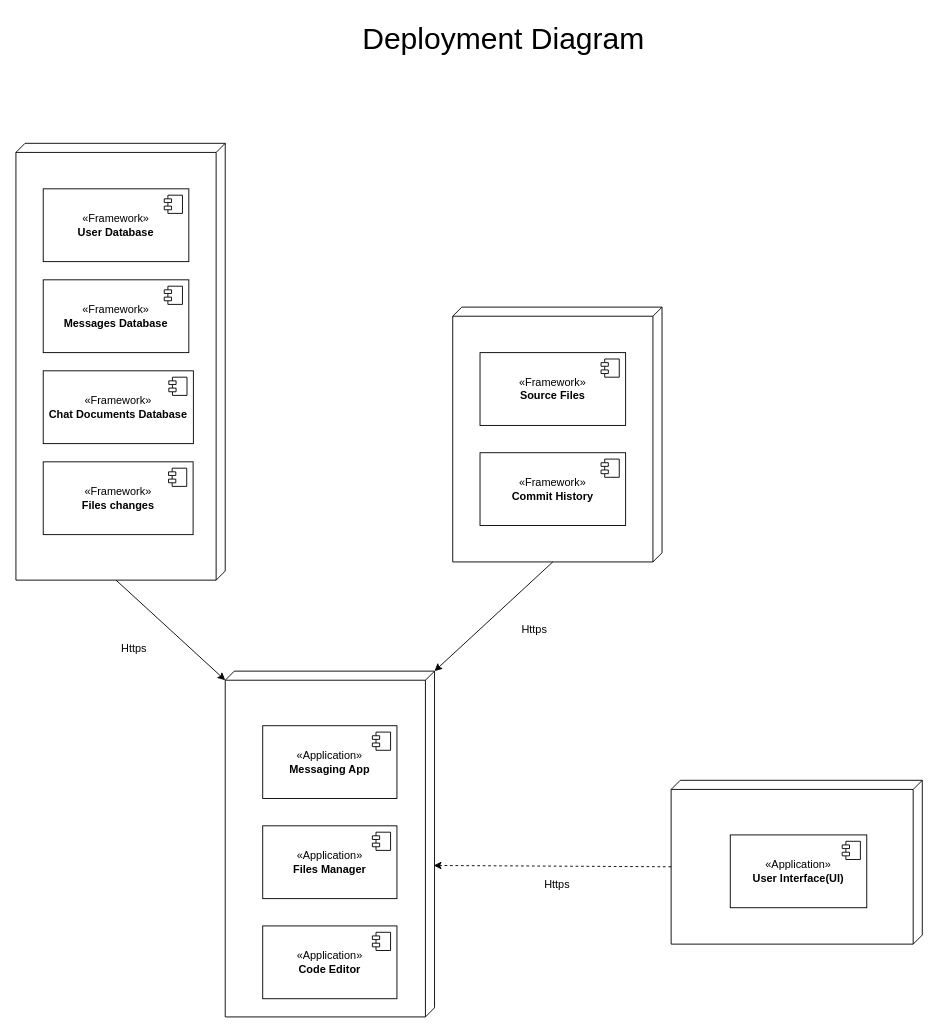
Some shapes in this 938 by 1033 pixel diagram are drawn without their labels. The shapes that lost their labels are listed below. From the top down, each one's box as (x1, y1, x2, y2) in pixels, then its label:
(15, 142, 225, 580): Firebase Database Server
(452, 306, 662, 562): GitHub server
(224, 670, 435, 1017): Web Server
(670, 779, 922, 944): User Device
